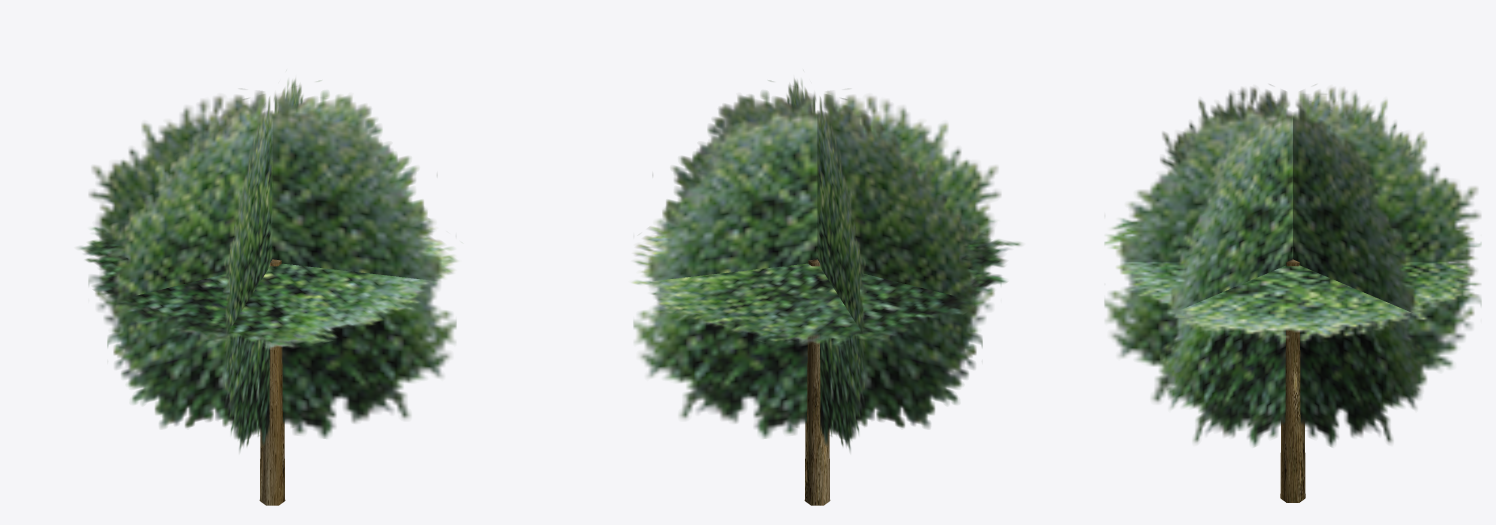
Rendered from tree.glb.
3 views of the same model, side by side, from view 1: azimuth 30°, elevation 25°; view 2: azimuth 150°, elevation 25°; view 3: azimuth 270°, elevation 25° (orthographic).
Parts seen in each view (by area): view 1: Cylinder; view 2: Cylinder; view 3: Cylinder.
Boxes of the visible parts, bbox=[...] form: Cylinder: bbox=[77, 78, 458, 505]; Cylinder: bbox=[631, 78, 1021, 505]; Cylinder: bbox=[1104, 84, 1481, 502].
Size of the model in its own units: 0.549 by 0.6495 by 0.549.
Materials: 2 (2 with a texture image).
